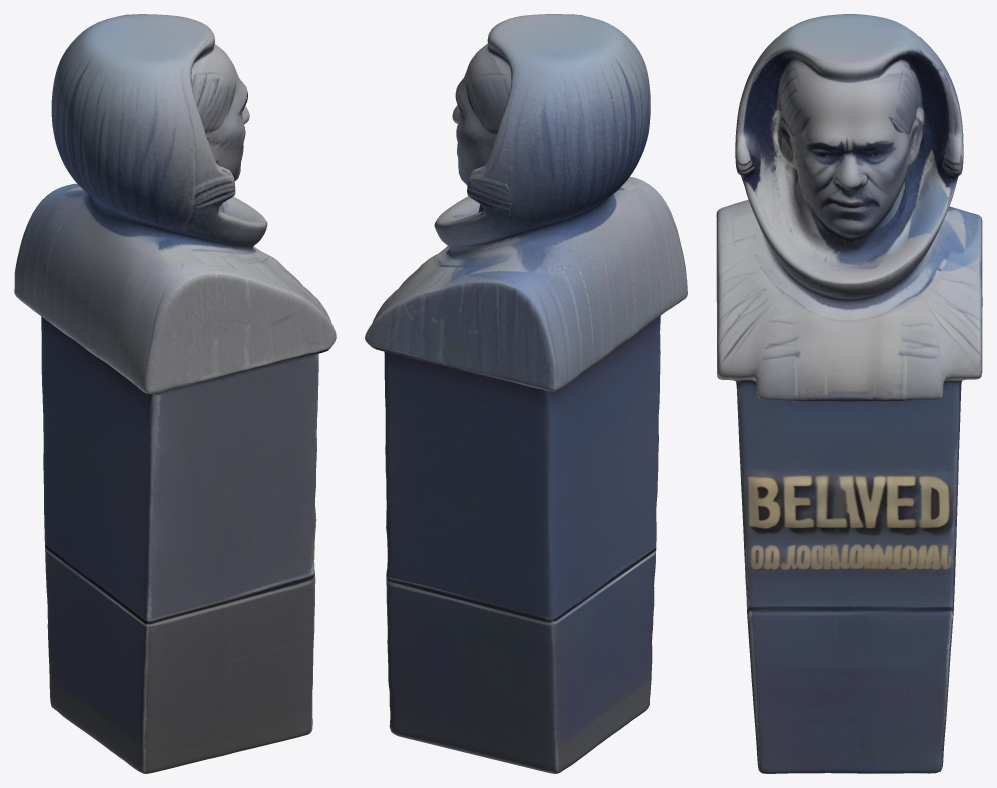
The model's file is Belyaev.fbx.
3 views of the same model, side by side, from view 1: azimuth 30°, elevation 25°; view 2: azimuth 150°, elevation 25°; view 3: azimuth 270°, elevation 25° (orthographic).
Parts seen in each view (by area): view 1: Belyaev; view 2: Belyaev; view 3: Belyaev.
Boxes of the visible parts, box(x1,y1,x2,y2) form: Belyaev: box(14, 14, 336, 773); Belyaev: box(365, 14, 687, 773); Belyaev: box(716, 14, 982, 773).
Size of the model in its own units: 45.21 by 134 by 47.59.
1 material, 1 textured.
